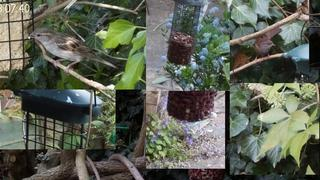dunnock: (253, 27, 282, 64)
sparrow: (27, 27, 119, 77)
